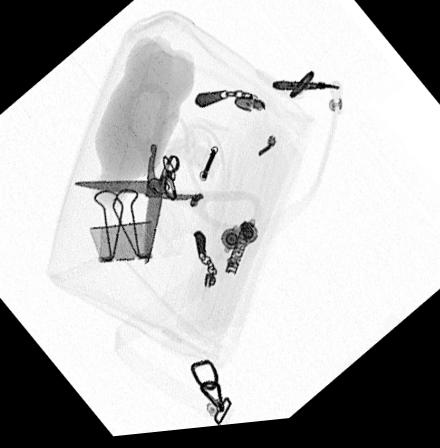Scissors: (74, 83, 263, 269)
